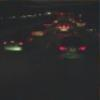cars: (1, 30, 36, 56), (59, 36, 92, 60)
